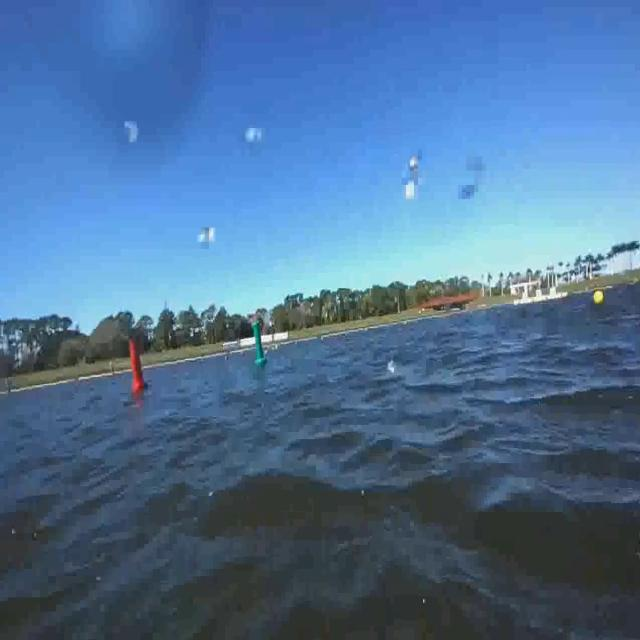green-column-buoy: (250, 325, 276, 362)
red-column-buoy: (128, 341, 152, 396)
